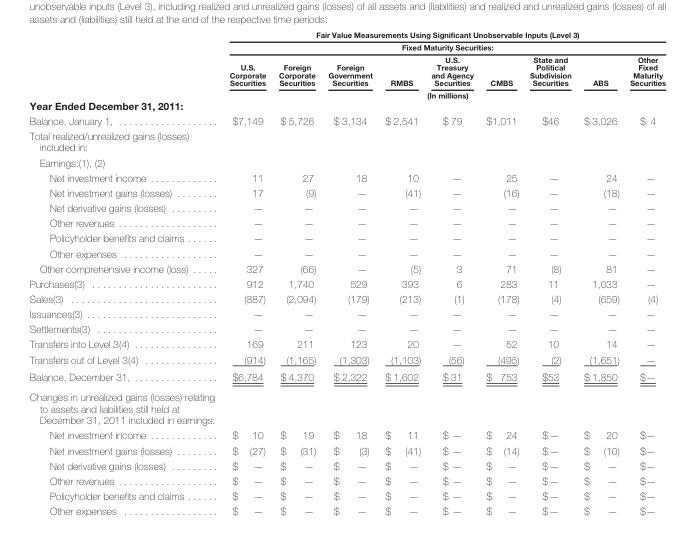table: (28, 29, 665, 516)
table column: (28, 29, 208, 516), (208, 29, 271, 516), (321, 29, 378, 516), (425, 29, 479, 516), (523, 29, 576, 516), (271, 29, 321, 516), (576, 29, 624, 516), (378, 29, 425, 516), (479, 29, 523, 516), (624, 29, 665, 516)
table column header: (28, 29, 665, 99)
table projected row header: (28, 386, 665, 427), (28, 128, 665, 154), (28, 154, 665, 169), (28, 99, 665, 113)
table row: (28, 386, 665, 427), (28, 53, 665, 88), (28, 128, 665, 154), (28, 29, 665, 53), (28, 368, 665, 386), (28, 351, 665, 368), (28, 184, 665, 200), (28, 275, 665, 291), (28, 472, 665, 488), (28, 113, 665, 128), (28, 154, 665, 169), (28, 169, 665, 184), (28, 200, 665, 215), (28, 215, 665, 230), (28, 230, 665, 245), (28, 245, 665, 260), (28, 260, 665, 275), (28, 291, 665, 306), (28, 306, 665, 321), (28, 321, 665, 336), (28, 336, 665, 351), (28, 427, 665, 442), (28, 442, 665, 457), (28, 457, 665, 472), (28, 488, 665, 503), (28, 99, 665, 113), (28, 503, 665, 516), (28, 88, 665, 99)
table spanning cell: (208, 29, 665, 53), (208, 88, 665, 99)
